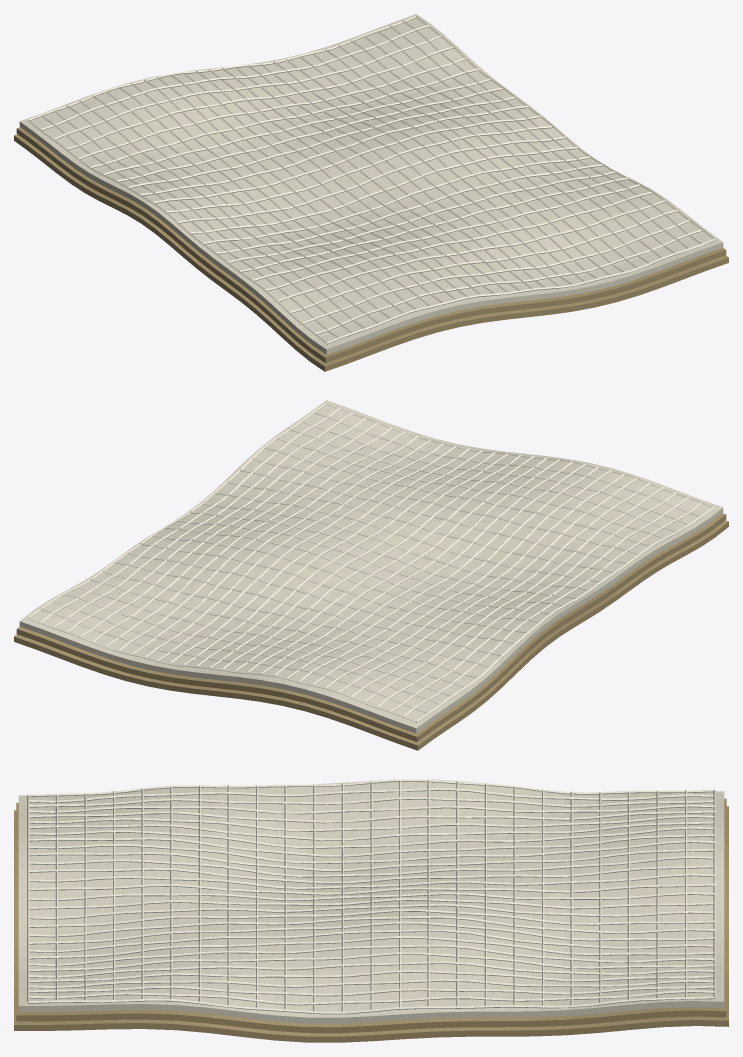
File: asset.fbx
The picture shows the model from 3 angles, top to bottom: view 1: azimuth 30°, elevation 25°; view 2: azimuth 150°, elevation 25°; view 3: azimuth 270°, elevation 25°; orthographic projection. The views are drawn at different scales.
Parts seen in each view (by area): view 1: radcare_used_dressing, radcare_used_dressing_woven_fibers; view 2: radcare_used_dressing, radcare_used_dressing_woven_fibers; view 3: radcare_used_dressing, radcare_used_dressing_woven_fibers.
Boxes of the visible parts, left/top/right/bottom form: radcare_used_dressing: left=14, top=14, right=728, bottom=371; radcare_used_dressing_woven_fibers: left=27, top=16, right=715, bottom=344; radcare_used_dressing: left=14, top=400, right=728, bottom=750; radcare_used_dressing_woven_fibers: left=27, top=402, right=715, bottom=722; radcare_used_dressing: left=14, top=779, right=728, bottom=1042; radcare_used_dressing_woven_fibers: left=27, top=779, right=715, bottom=1014.
Size of the model in its own units: 0.09 by 0.009 by 0.12.
